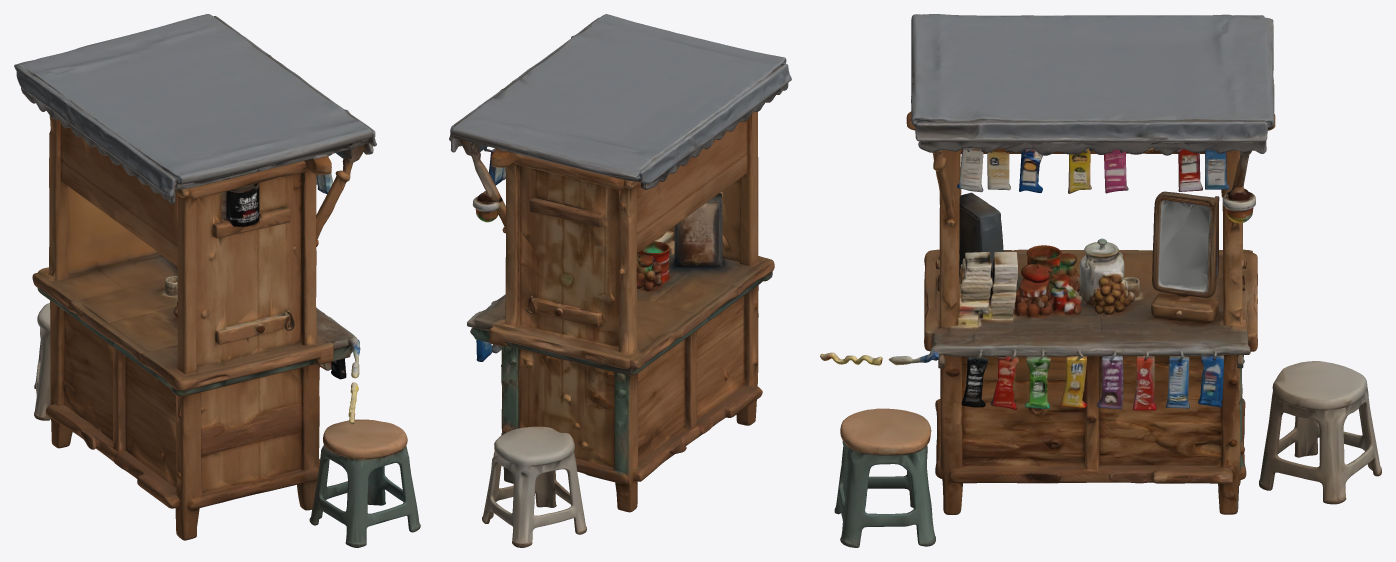
Rendered from paan.glb.
3 views of the same model, side by side, from view 1: azimuth 30°, elevation 25°; view 2: azimuth 150°, elevation 25°; view 3: azimuth 270°, elevation 25° (orthographic). The views are drawn at different scales.
Visible parts, largest first — view 1: tripo_node_cb37b762-7c61-4fbb-87e5-9dc0394c7468; view 2: tripo_node_cb37b762-7c61-4fbb-87e5-9dc0394c7468; view 3: tripo_node_cb37b762-7c61-4fbb-87e5-9dc0394c7468.
Boxes of the visible parts, x1=… form: tripo_node_cb37b762-7c61-4fbb-87e5-9dc0394c7468: x1=14, y1=14, x2=420, y2=547; tripo_node_cb37b762-7c61-4fbb-87e5-9dc0394c7468: x1=449, y1=14, x2=791, y2=547; tripo_node_cb37b762-7c61-4fbb-87e5-9dc0394c7468: x1=820, y1=14, x2=1381, y2=547.
Size of the model in its own units: 1.09 by 1.8 by 2.17.
Materials: 1 (1 with a texture image).
